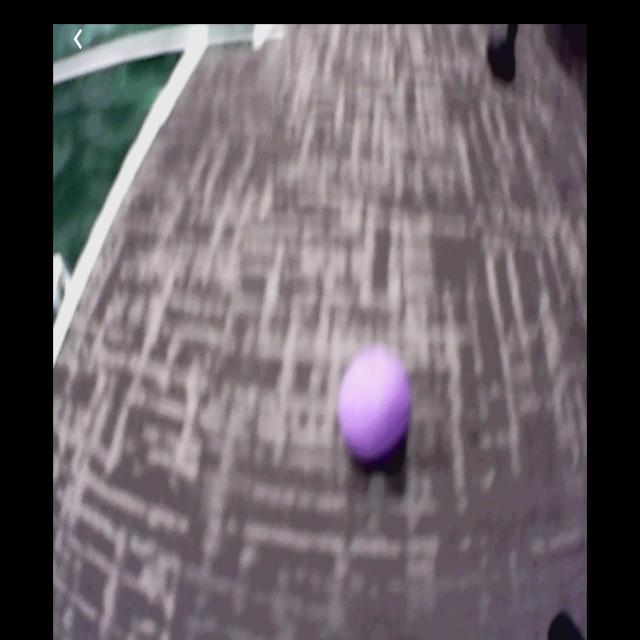ball: (341, 352, 411, 459)
